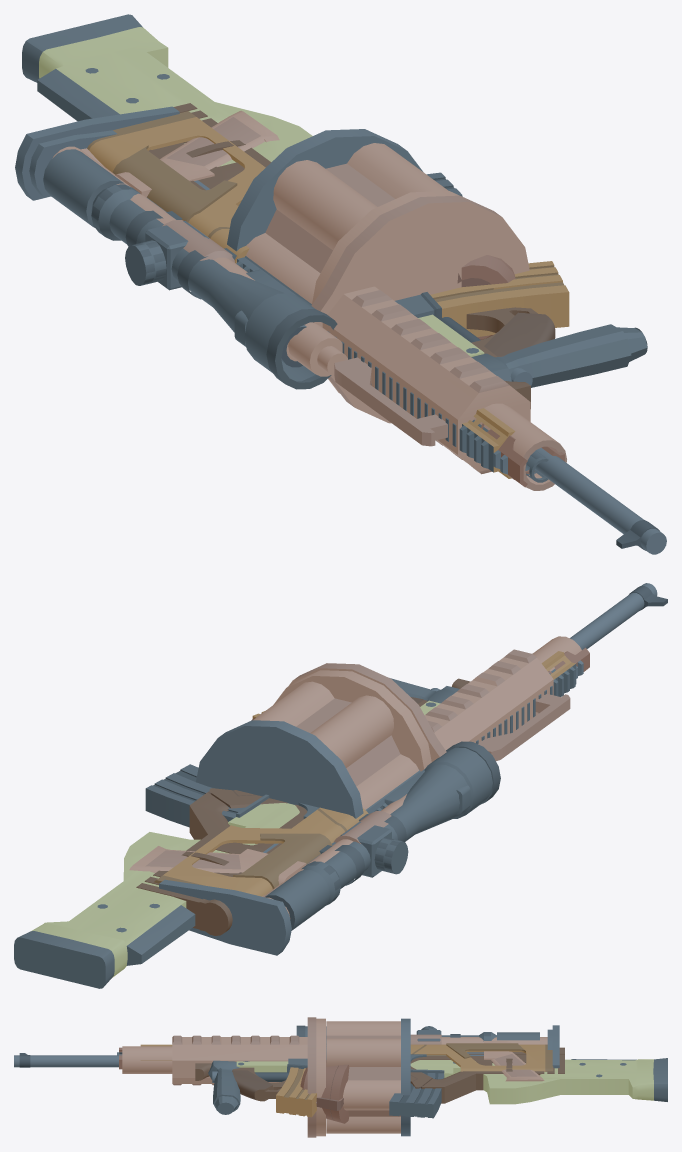
The picture shows the model from 3 angles, top to bottom: view 1: azimuth 30°, elevation 25°; view 2: azimuth 150°, elevation 25°; view 3: azimuth 270°, elevation 25°; orthographic projection. The views are drawn at different scales.
Visible parts, largest first — view 1: GL1, SNIPER1, MG4, MG3; view 2: GL1, SNIPER1, MG4, MG3; view 3: GL1, SNIPER1, MG3, MG4.
Part boxes in pixels (x1,y1,x2,y2): GL1: (15, 106, 647, 490); SNIPER1: (22, 14, 666, 554); MG4: (87, 111, 569, 478); MG3: (148, 103, 564, 487); GL1: (129, 636, 581, 955); SNIPER1: (14, 583, 667, 988); MG4: (154, 651, 576, 896); MG3: (136, 647, 589, 935); GL1: (122, 1017, 559, 1137); SNIPER1: (14, 1025, 667, 1118); MG3: (117, 1047, 564, 1123); MG4: (140, 1043, 553, 1117).
Bounding box in the file's own units: 175 × 118 × 640.
